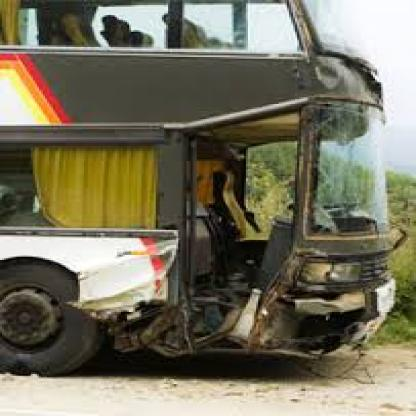accident: (24, 14, 404, 395)
